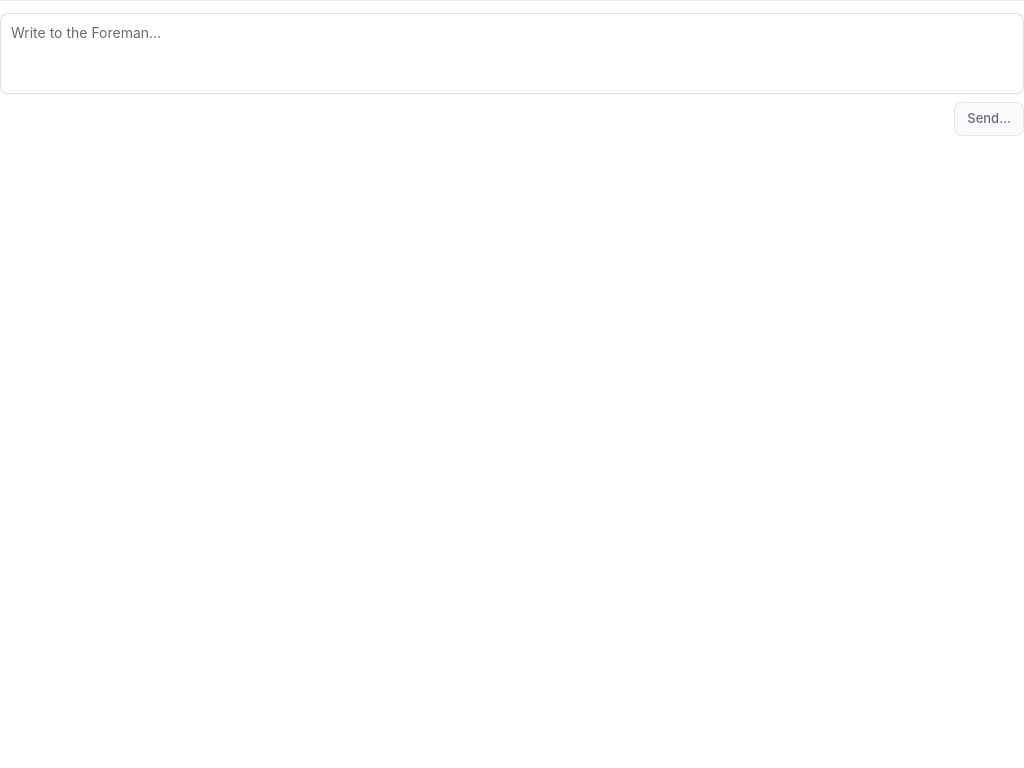
Composer › Send spins on the click and cannot be pressed twice
Later steps or results of the test are not shown.
(page scrolled)
Type "Please check the export." into the text box labelled "Write to the Foreman…" at (512, 54), box [0,13,1023,94]
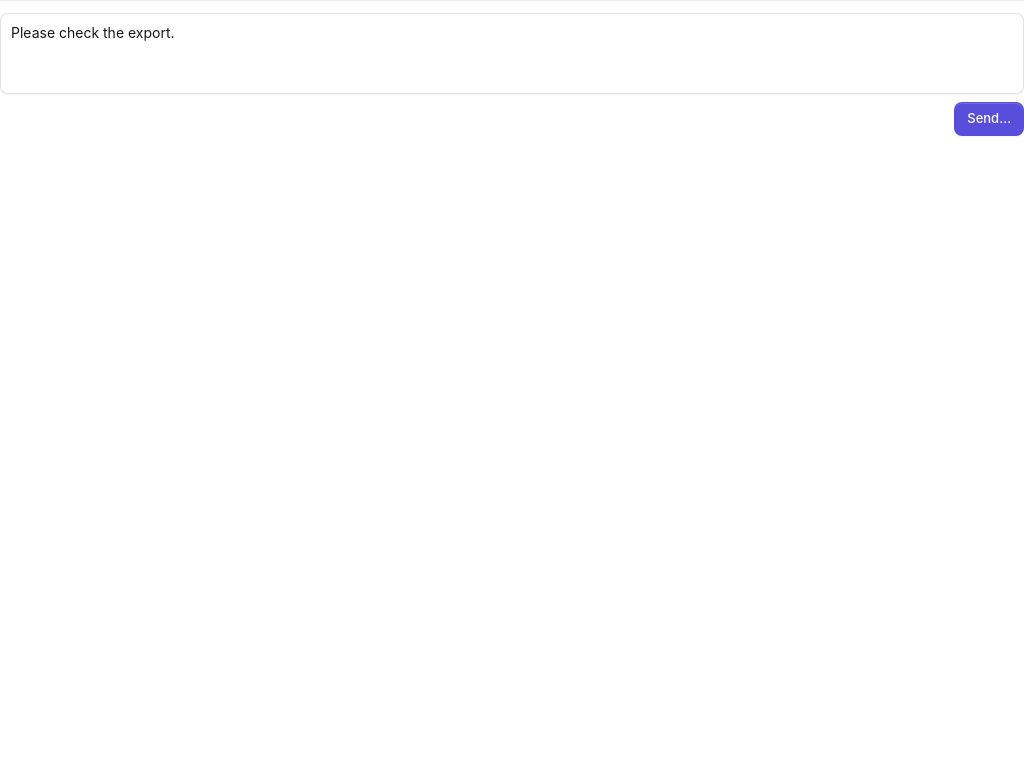
Click the button "Send…" at (989, 119), box [954,102,1023,136]
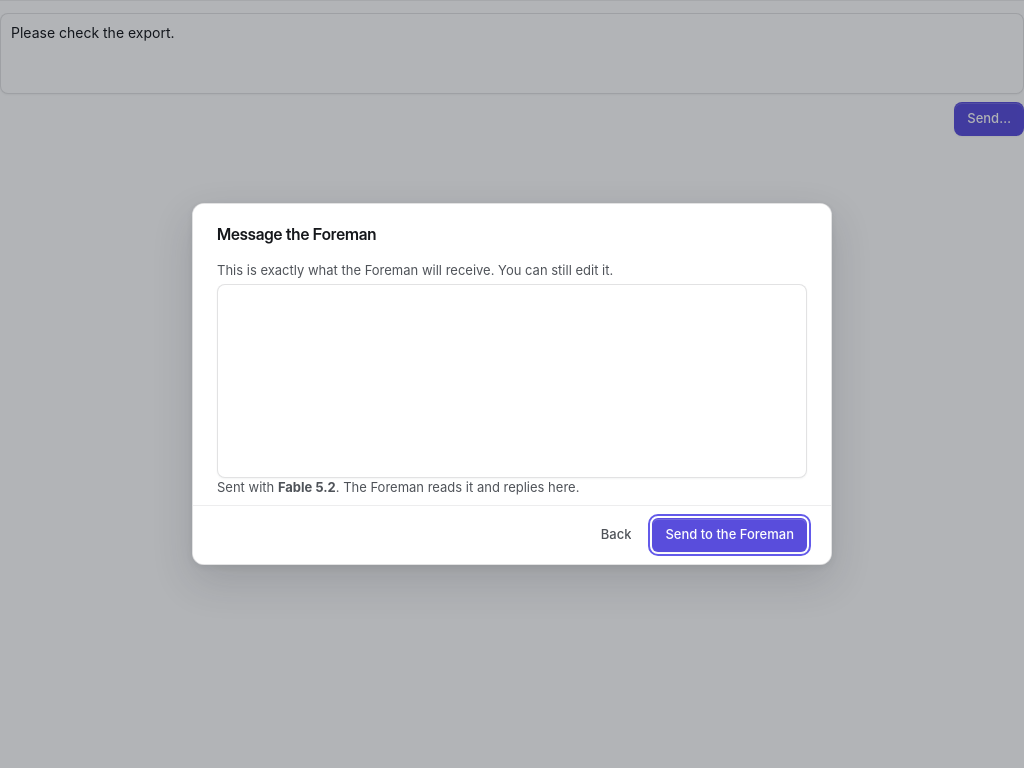
Click the button "Send to the Foreman" at (730, 535), box [652,518,807,552]
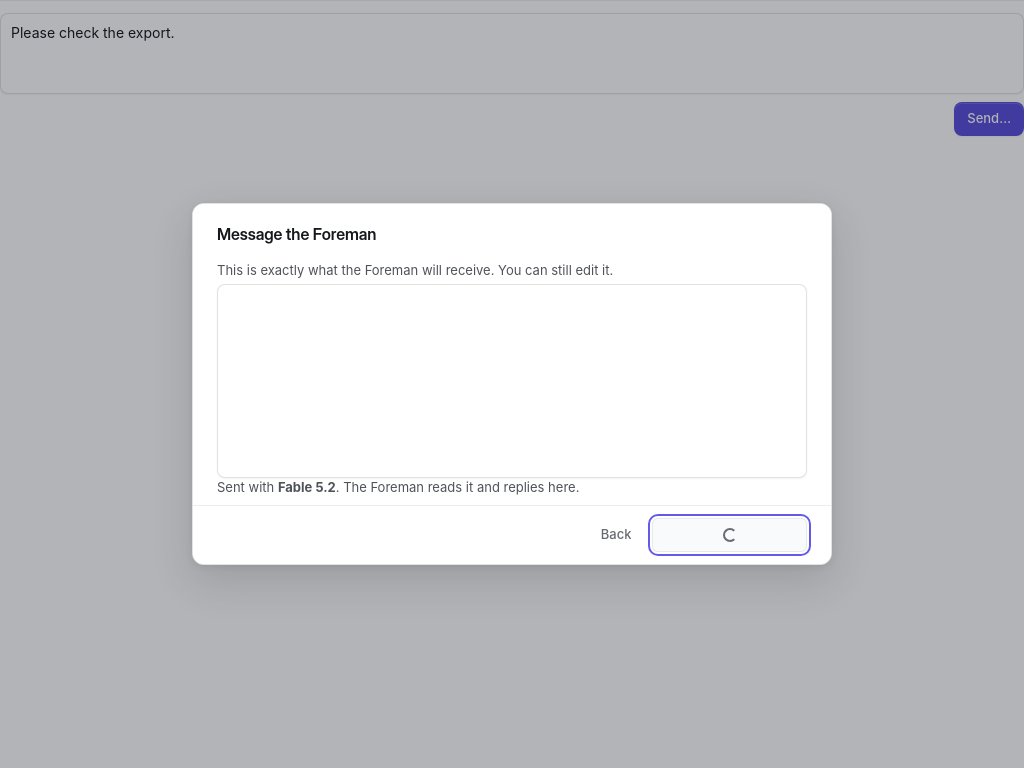
Click the button named "Send to the Foreman" at (730, 535), box [652,518,807,552]
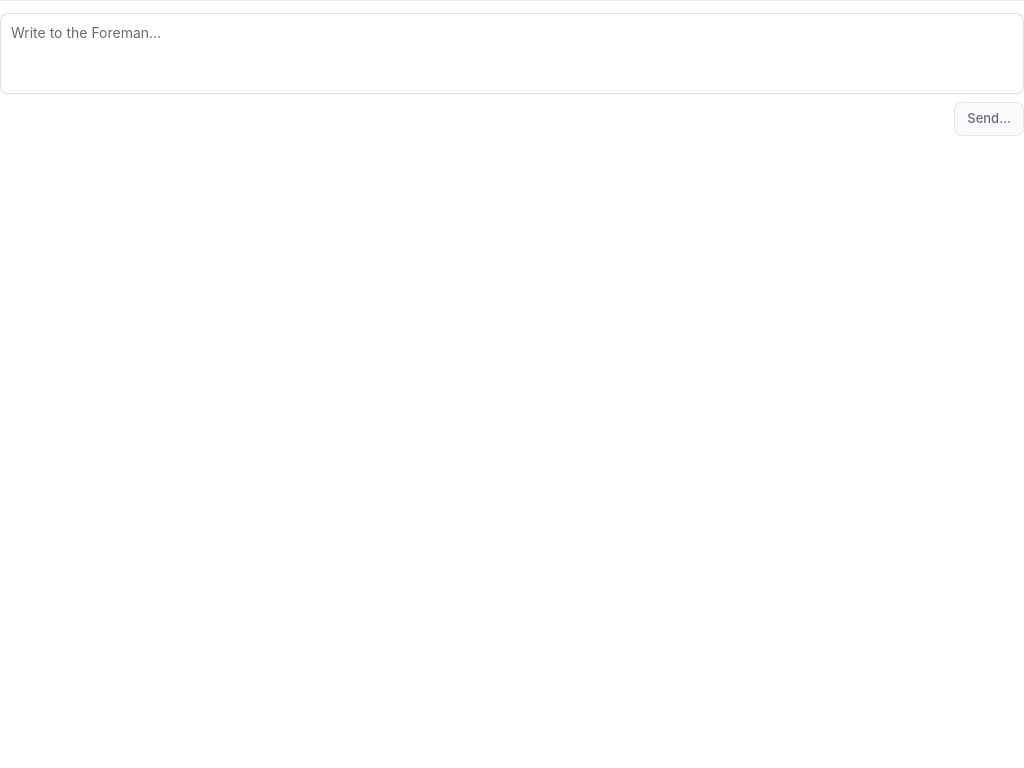
expect the dialog is gone: met
